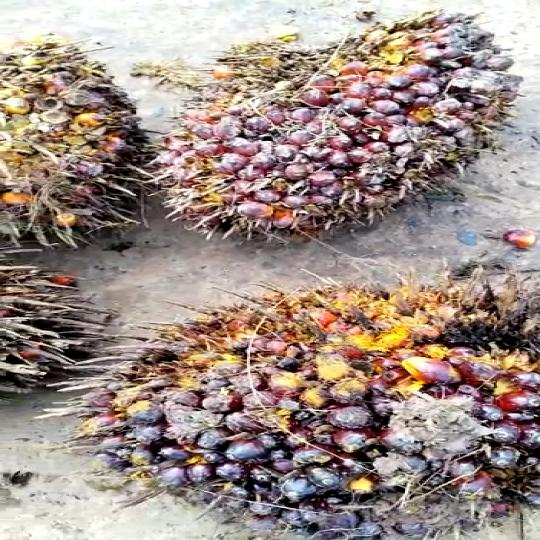masak: (87, 262, 540, 540), (133, 2, 525, 252)
